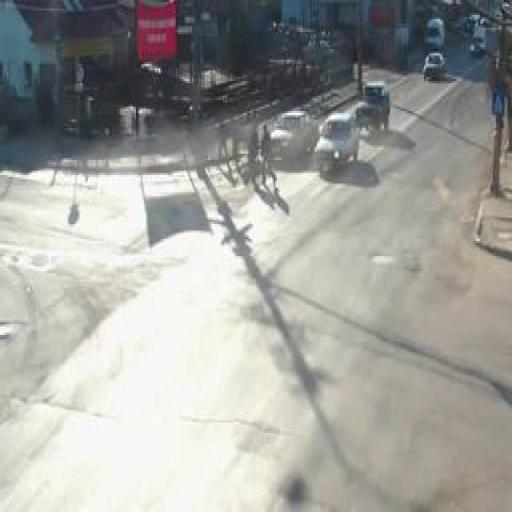Car: (318, 110, 360, 178), (274, 108, 318, 168), (359, 82, 387, 132), (425, 14, 445, 56), (470, 27, 488, 60), (423, 55, 445, 79), (466, 14, 482, 36)
